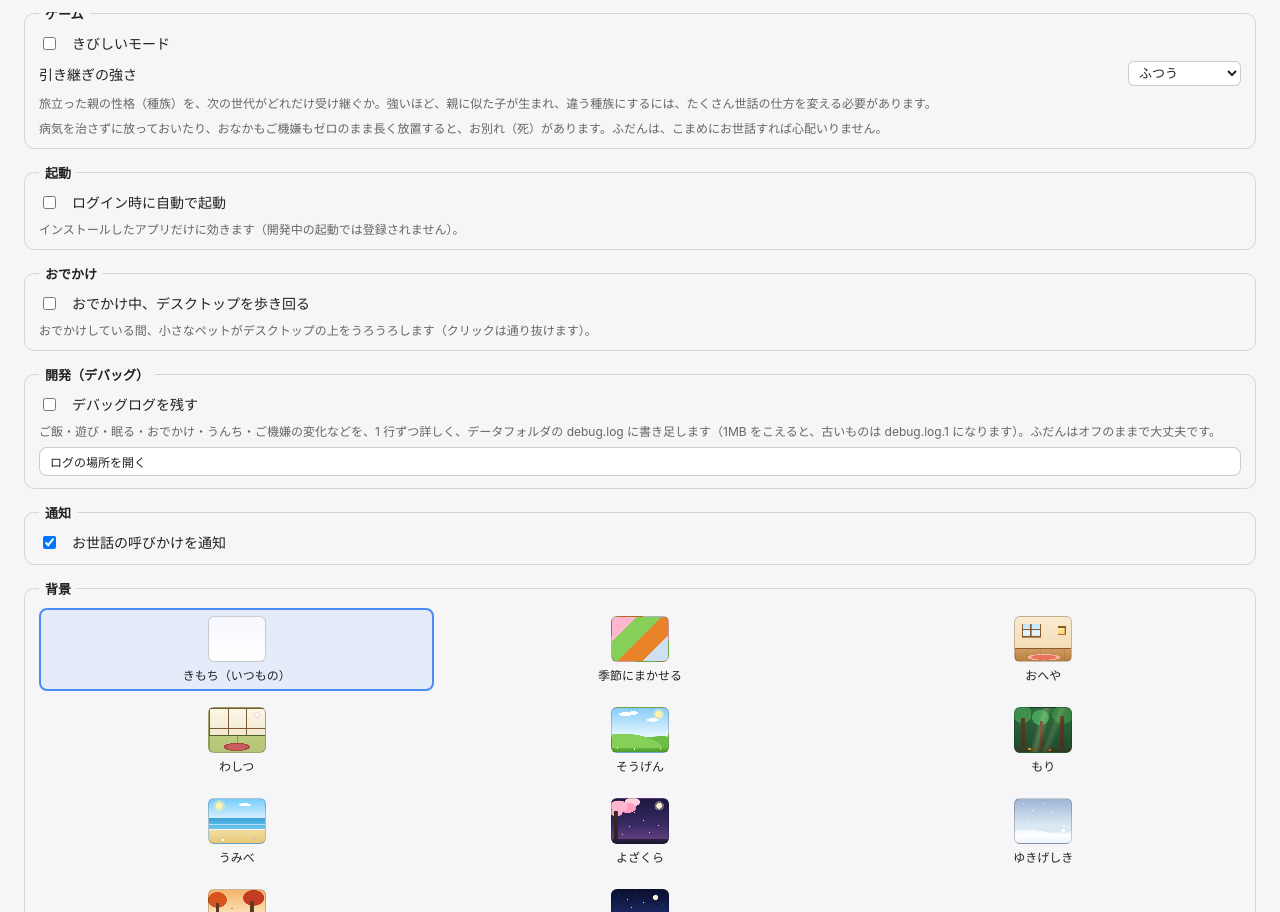
Settings dialog › opens the folder with the debug log, and shows an error if that fails
(page scrolled)
Click the button "ログの場所を開く" at (98, 463), box [39,447,1241,476]
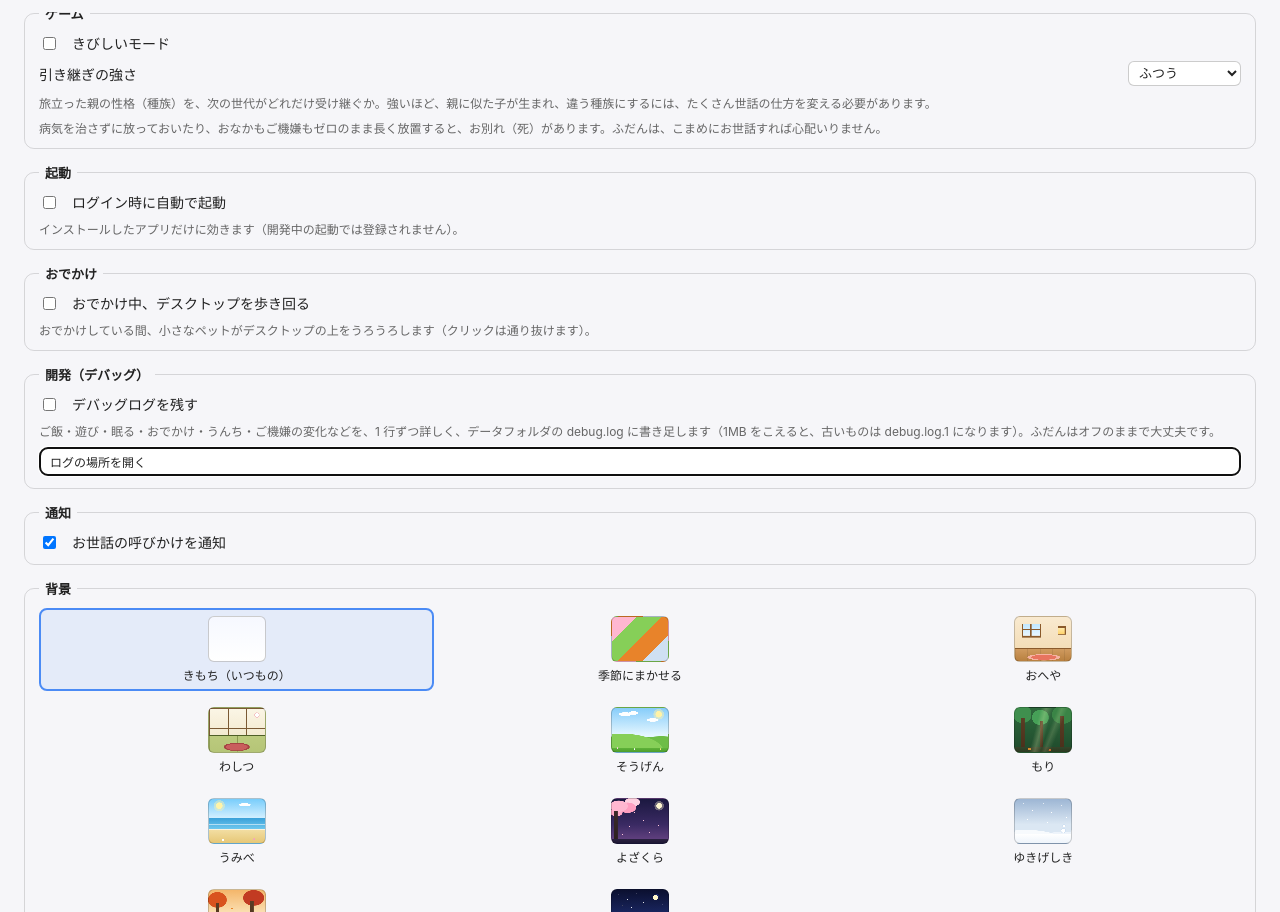
Click the button "ログの場所を開く" at (98, 463), box [39,447,1241,476]
(page scrolled)
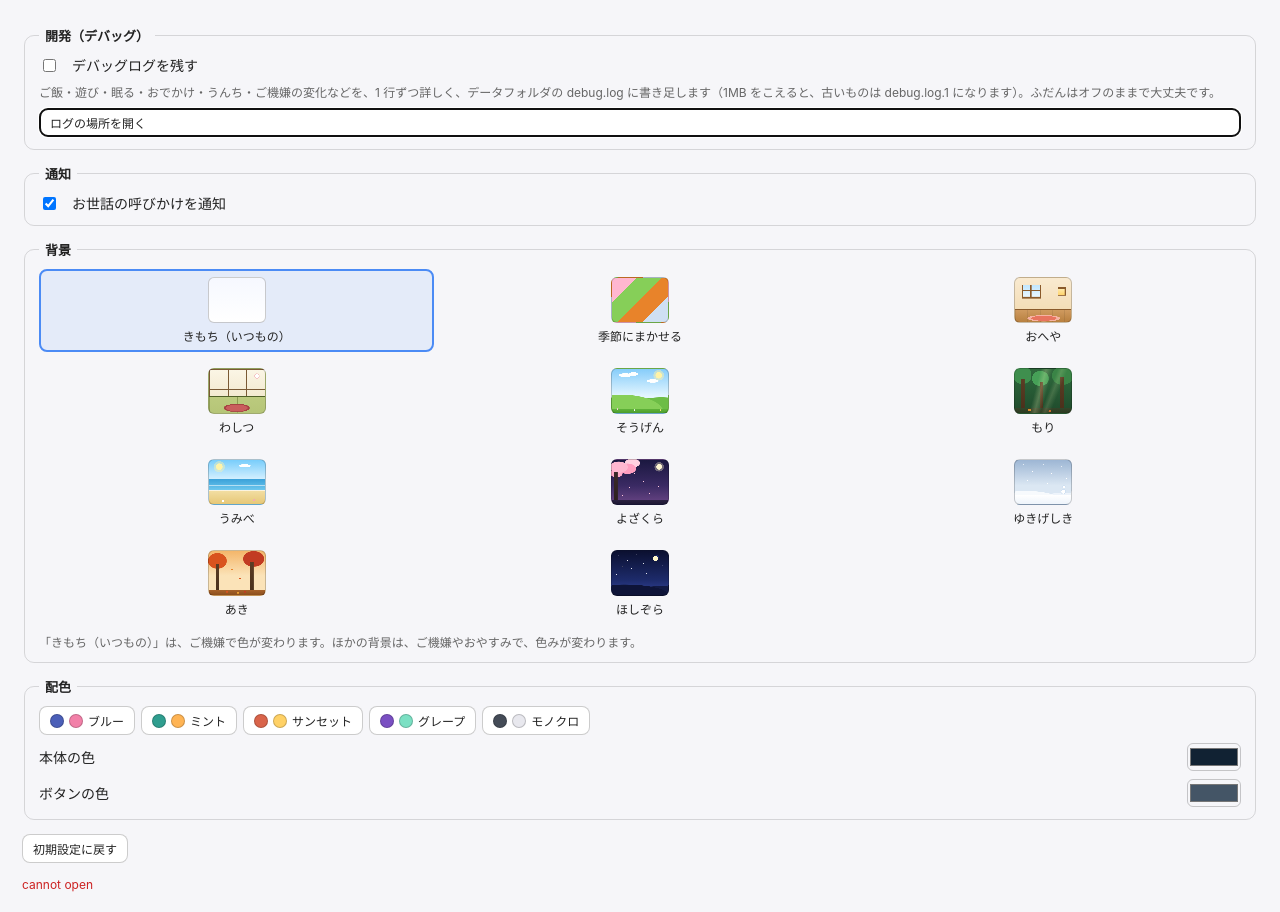
Check: the message reads "cannot open", box [22,877,93,892]
